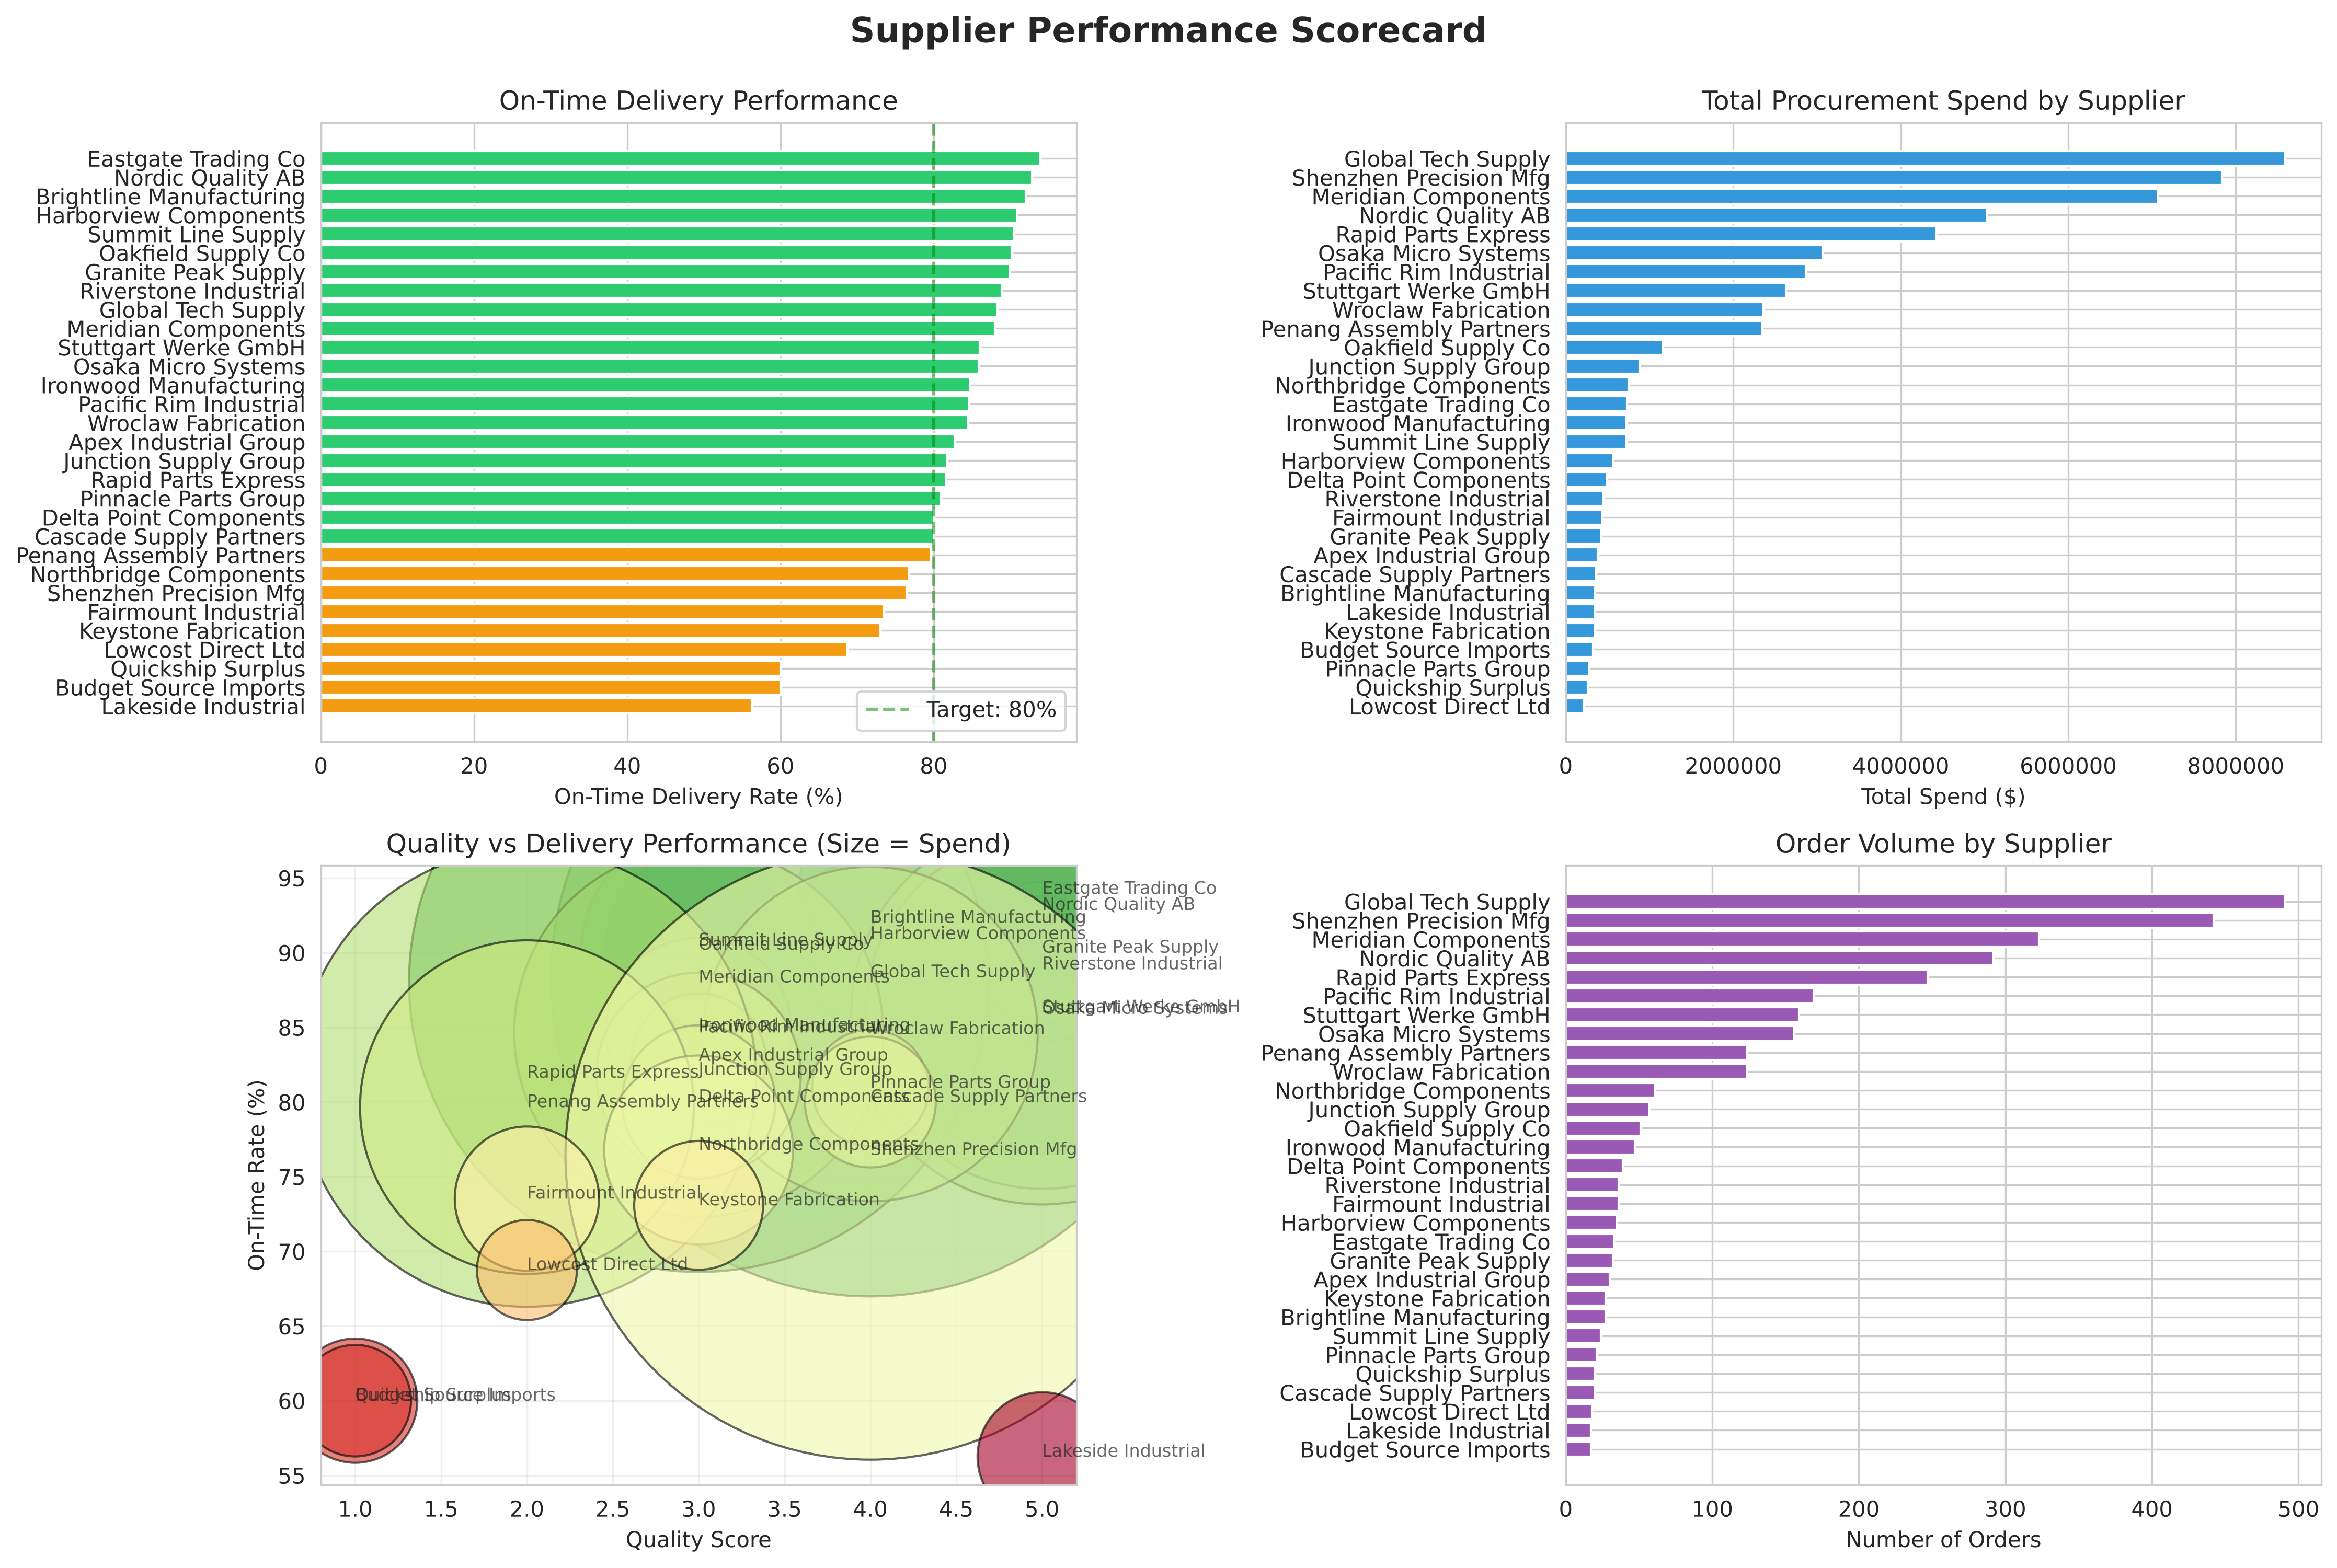

What the dashboard file says about the page in this screenshot:
{"tool":"tableau","page":{"name":"Supplier Performance","canvas":[1000,1000],"units":"permille","ordinal":3},"visuals":[{"type":"worksheet","title":"KPI On-Time","mark":"Automatic","box":[6.6,11.5,247.1,151.1]},{"type":"worksheet","title":"KPI Cycle Time","mark":"Automatic","box":[253.7,11.5,247.1,151.1]},{"type":"worksheet","title":"KPI Total Spend","mark":"Automatic","box":[500.8,11.5,246.3,151.1]},{"type":"worksheet","title":"KPI Quality","mark":"Automatic","box":[747.1,11.5,246.3,151.1]},{"type":"worksheet","title":"Supplier Risk Scatter","mark":"Circle","rows":["Calculation_6471364726489089"],"cols":["Calculation_6471364726730756"],"box":[6.6,162.6,422,437.4]},{"type":"worksheet","title":"Supplier On-Time Trend","mark":"Line","rows":["Calculation_6471364726489089"],"cols":["order_date"],"box":[428.6,162.6,423.9,437.4]},{"type":"legend","title":"Supplier Risk Scatter","param":"[federated.13v9oqx1s5o2e31fr196h1aqt3c9].[usr:Calculation_6471364726603778:qk]","box":[852.5,162.6,140.9,187]},{"type":"legend","title":"Supplier Risk Scatter","param":"[federated.13v9oqx1s5o2e31fr196h1aqt3c9].[usr:Calculation_6471364727373835:nk:2]","box":[852.5,349.6,140.9,95]},{"type":"filter","title":"Supplier Risk Scatter","param":"[federated.13v9oqx1s5o2e31fr196h1aqt3c9].[none:category:nk]","box":[852.5,444.5,140.9,319.4]},{"type":"worksheet","title":"Supplier Ranking","mark":"Automatic","rows":["supplier_name"],"cols":["Calculation_6471364726489089"],"box":[6.6,600,846,388.5]}]}

Visuals, with their boxes on the dashboard's canvas, which has no fixed pixel size, in thousandths of its width and height (x1, y1, x2, y2). These are canvas units, not pixel positions in the 2337x1568 screenshot, which may show the page scaled, cropped or inside an application window:
"KPI On-Time" worksheet: {"x1": 7, "y1": 12, "x2": 254, "y2": 163}
"KPI Cycle Time" worksheet: {"x1": 254, "y1": 12, "x2": 501, "y2": 163}
"KPI Total Spend" worksheet: {"x1": 501, "y1": 12, "x2": 747, "y2": 163}
"KPI Quality" worksheet: {"x1": 747, "y1": 12, "x2": 993, "y2": 163}
"Supplier Risk Scatter" worksheet (Circle marks): {"x1": 7, "y1": 163, "x2": 429, "y2": 600}
"Supplier On-Time Trend" worksheet (Line marks): {"x1": 429, "y1": 163, "x2": 852, "y2": 600}
"Supplier Risk Scatter" legend: {"x1": 852, "y1": 163, "x2": 993, "y2": 350}
"Supplier Risk Scatter" legend: {"x1": 852, "y1": 350, "x2": 993, "y2": 445}
"Supplier Risk Scatter" filter: {"x1": 852, "y1": 444, "x2": 993, "y2": 764}
"Supplier Ranking" worksheet: {"x1": 7, "y1": 600, "x2": 853, "y2": 988}
